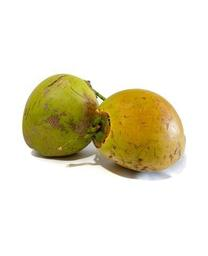coconut: (88, 88, 186, 171), (22, 74, 99, 159)
